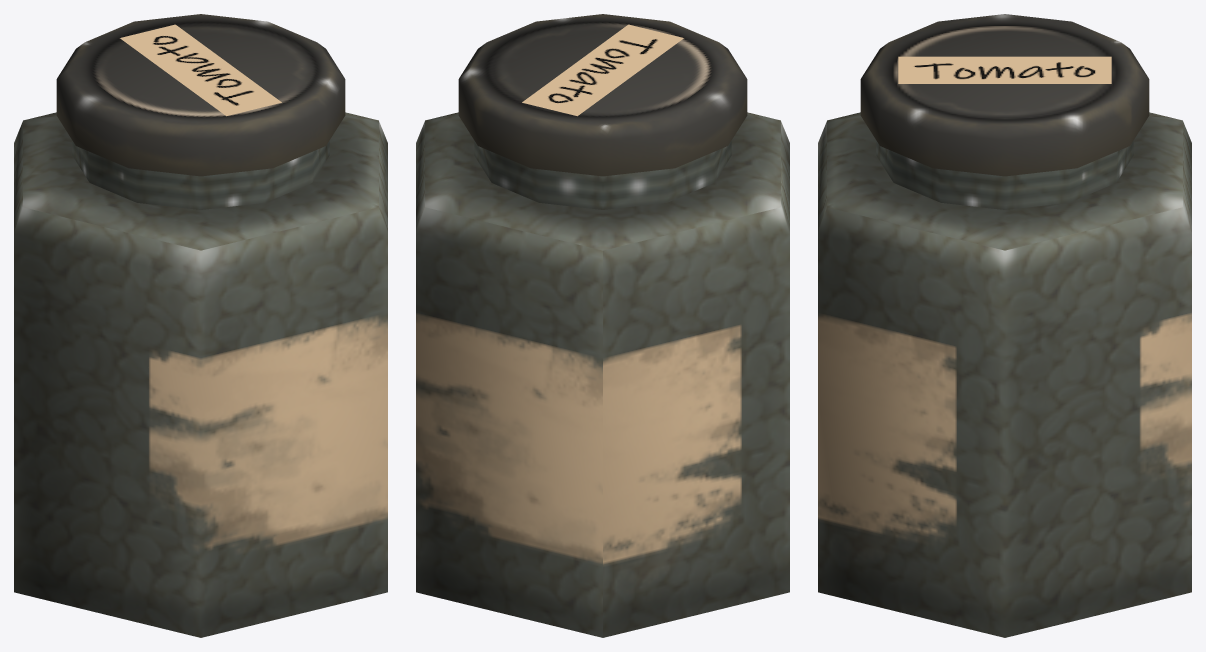
File: seedJar.fbx
3 renders of one model, left to right at view 1: azimuth 30°, elevation 25°; view 2: azimuth 150°, elevation 25°; view 3: azimuth 270°, elevation 25°, orthographic.
Visible parts, largest first — view 1: seedJar; view 2: seedJar; view 3: seedJar.
Boxes of the visible parts, box(x1,y1,x2,y2) form: seedJar: box(14, 14, 387, 637); seedJar: box(416, 14, 789, 637); seedJar: box(818, 14, 1191, 637).
Size of the model in its own units: 12 by 14.62 by 10.39.
